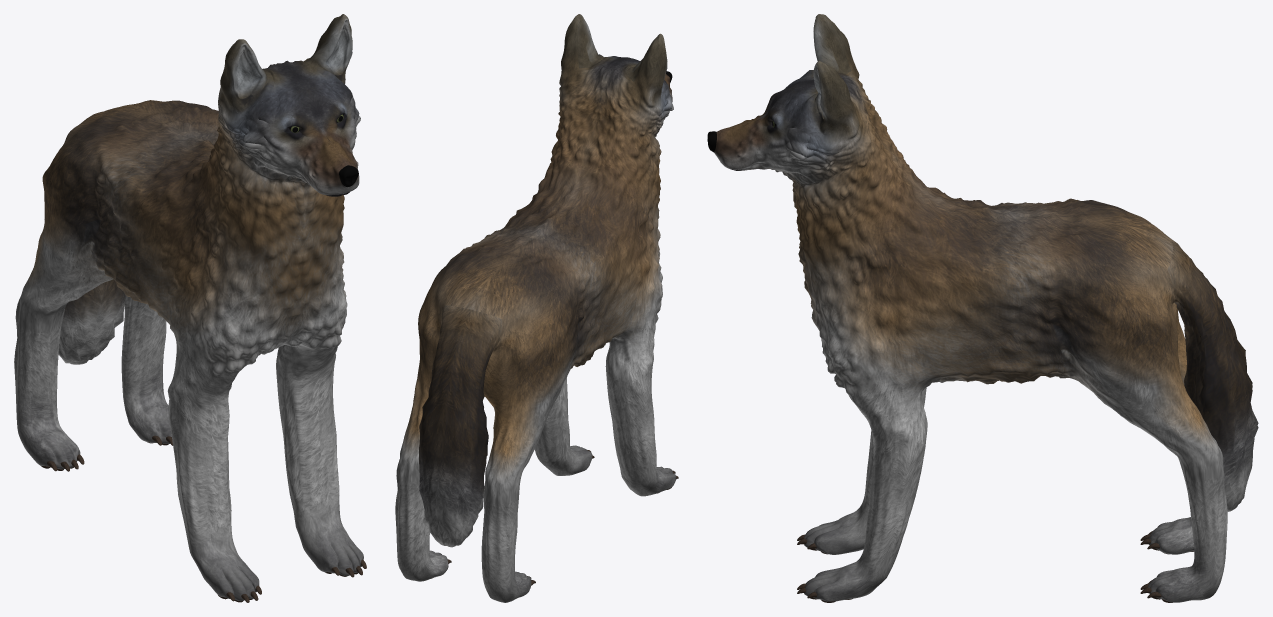
File: Coyote.glb
3 views of the same model, side by side, from view 1: azimuth 30°, elevation 25°; view 2: azimuth 150°, elevation 25°; view 3: azimuth 270°, elevation 25° (orthographic). The views are drawn at different scales.
Parts seen in each view (by area): view 1: Coyote; view 2: Coyote; view 3: Coyote.
Boxes of the visible parts, left/top/right/bottom form: Coyote: left=14, top=14, right=366, bottom=602; Coyote: left=395, top=14, right=678, bottom=602; Coyote: left=707, top=14, right=1258, bottom=602.
Bounding box in the file's own units: 1.46 × 4.57 × 4.26.
Materials: 1 (1 with a texture image).
